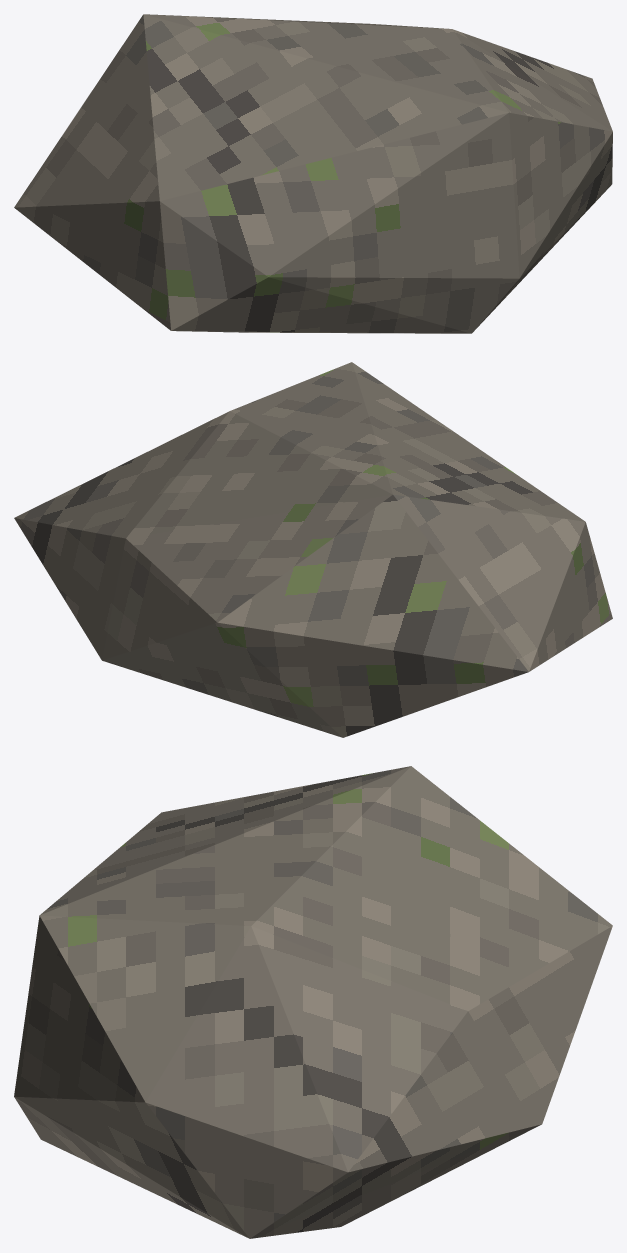
The model's file is rock_medium.glb.
3 views of the same model, one above another, from view 1: azimuth 30°, elevation 25°; view 2: azimuth 150°, elevation 25°; view 3: azimuth 270°, elevation 25° (orthographic). The views are drawn at different scales.
Parts seen in each view (by area): view 1: rock_medium; view 2: rock_medium; view 3: rock_medium.
Part boxes in pixels (bbox=[...]): rock_medium: bbox=[14, 14, 612, 333]; rock_medium: bbox=[14, 362, 612, 737]; rock_medium: bbox=[14, 766, 612, 1238].
Bounding box in the file's own units: 0.7861 × 0.3684 × 0.6356.
1 material, 1 textured.
